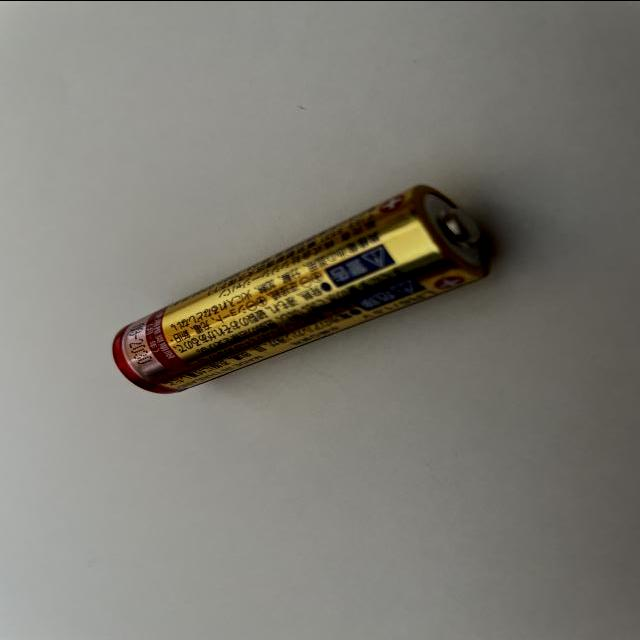AA: (104, 182, 490, 396)
